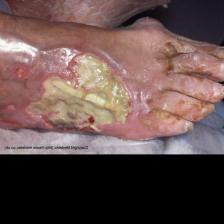Wound: (18, 49, 132, 137)
